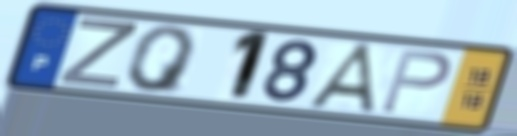1: (227, 29, 273, 106)
8: (262, 37, 319, 105)
A: (303, 40, 382, 118)
P: (377, 46, 454, 116)
Q: (124, 24, 200, 96)
Z: (55, 15, 141, 91)
